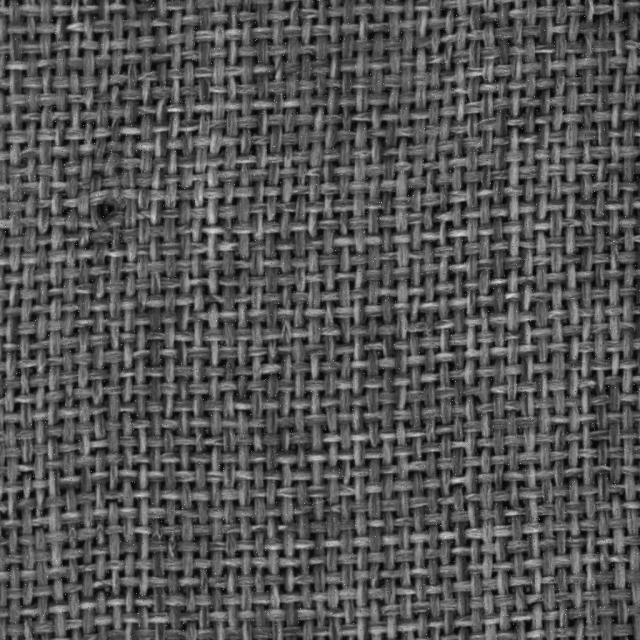seam: (93, 196, 121, 224)
